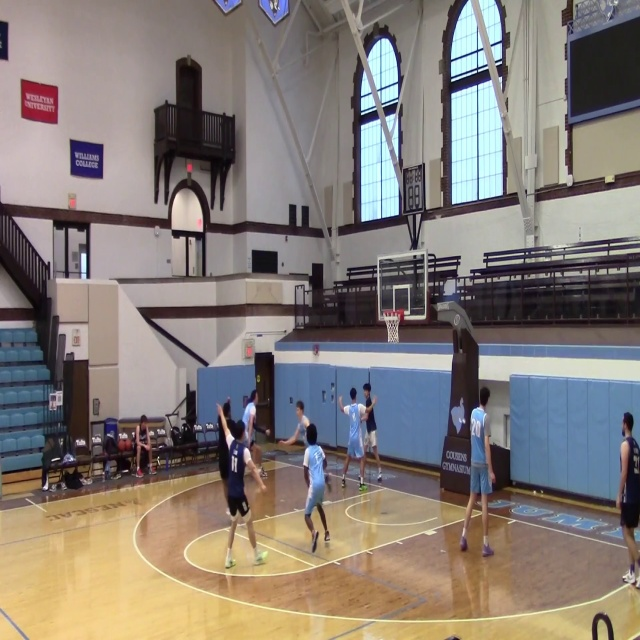Basketball: (249, 443, 263, 465), (117, 432, 132, 451)
